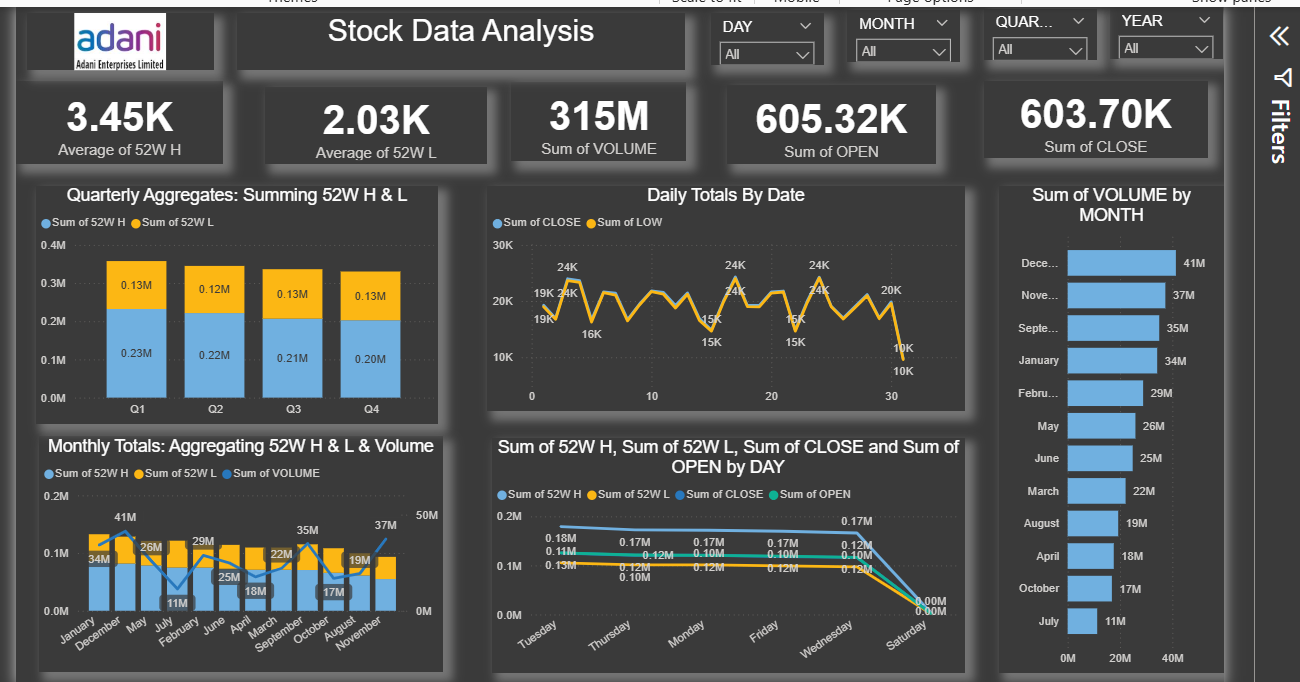

The page's visual inventory and layout, read from the dashboard file:
{"tool":"powerbi","page":{"name":"Page 1","canvas":[1280,720],"ordinal":0},"visuals":[{"type":"slicer","fields":{"Values":["Quote-Equity-ADANIENT-EQ-04-12-.DAY"]},"box":[737,5.7,120,54.8],"z":0},{"type":"slicer","fields":{"Values":["Quote-Equity-ADANIENT-EQ-04-12-.MONTH"]},"box":[880.6,3.8,120,54.8],"z":1000},{"type":"slicer","fields":{"Values":["Quote-Equity-ADANIENT-EQ-04-12-.QUARTER"]},"box":[1026.1,1.9,120,54.8],"z":2000},{"type":"slicer","fields":{"Values":["Quote-Equity-ADANIENT-EQ-04-12-.YEAR"]},"box":[1160.3,0,120,54.8],"z":3000},{"type":"card","fields":{"Values":["Avg(Quote-Equity-ADANIENT-EQ-04-12-.52W H)"]},"box":[0,77.5,219.2,88.8],"z":4000},{"type":"card","fields":{"Values":["Avg(Quote-Equity-ADANIENT-EQ-04-12-.52W L)"]},"box":[234.3,77.5,234.3,83.2],"z":5000},{"type":"card","fields":{"Values":["Sum(Quote-Equity-ADANIENT-EQ-04-12-.CLOSE)"]},"box":[1026.6,77.7,238,82.6],"z":6000},{"type":"card","fields":{"Values":["Sum(Quote-Equity-ADANIENT-EQ-04-12-.OPEN)"]},"box":[784.3,77.5,221.1,85],"z":7000},{"type":"card","fields":{"Values":["Sum(Quote-Equity-ADANIENT-EQ-04-12-.VOLUME)"]},"box":[524.6,79.3,186.2,84.2],"z":8000},{"type":"columnChart","title":"Quarterly Aggregates: Summing 52W H & L","fields":{"Y":["Sum(Quote-Equity-ADANIENT-EQ-04-12-.52W H)","Sum(Quote-Equity-ADANIENT-EQ-04-12-.52W L)"],"Category":["Quote-Equity-ADANIENT-EQ-04-12-.QUARTER"]},"box":[21,189.4,427.5,252.6],"z":9000},{"type":"lineStackedColumnComboChart","title":"Monthly Totals: Aggregating 52W H & L & Volume","fields":{"Y":["Sum(Quote-Equity-ADANIENT-EQ-04-12-.52W H)","Sum(Quote-Equity-ADANIENT-EQ-04-12-.52W L)"],"Category":["Quote-Equity-ADANIENT-EQ-04-12-.MONTH"],"Y2":["Sum(Quote-Equity-ADANIENT-EQ-04-12-.VOLUME)"]},"box":[24.3,455,429.1,251],"z":10000},{"type":"lineChart","title":"Daily Totals By  Date ","fields":{"Category":["Quote-Equity-ADANIENT-EQ-04-12-.DATE.Variation.Date Hierarchy.Day"],"Y":["Sum(Quote-Equity-ADANIENT-EQ-04-12-.CLOSE)","Sum(Quote-Equity-ADANIENT-EQ-04-12-.LOW)"]},"box":[498.7,189.4,506.8,239.6],"z":11000},{"type":"lineChart","fields":{"Y":["Sum(Quote-Equity-ADANIENT-EQ-04-12-.52W H)","Sum(Quote-Equity-ADANIENT-EQ-04-12-.52W L)","Sum(Quote-Equity-ADANIENT-EQ-04-12-.CLOSE)","Sum(Quote-Equity-ADANIENT-EQ-04-12-.OPEN)"],"Category":["Quote-Equity-ADANIENT-EQ-04-12-.DAY"]},"box":[503.6,456.6,502,249.4],"z":12000},{"type":"clusteredBarChart","fields":{"Category":["Quote-Equity-ADANIENT-EQ-04-12-.MONTH"],"Y":["Sum(Quote-Equity-ADANIENT-EQ-04-12-.VOLUME)"]},"box":[1041.2,189.4,239.6,516.5],"z":13000},{"type":"textbox","box":[234.3,5.7,476.2,60.5],"z":14000},{"type":"image","box":[11.3,5.7,198.4,60.5],"z":14001}]}

Visuals, with their boxes on the page's 1280x720 design canvas (x1, y1, x2, y2). These are canvas units, not pixel positions in the 1300x682 screenshot, which may show the page scaled, cropped or inside an application window:
slicer - Quote-Equity-ADANIENT-EQ-04-12-.DAY: <bbox>737, 6, 857, 60</bbox>
slicer - Quote-Equity-ADANIENT-EQ-04-12-.MONTH: <bbox>881, 4, 1001, 59</bbox>
slicer - Quote-Equity-ADANIENT-EQ-04-12-.QUARTER: <bbox>1026, 2, 1146, 57</bbox>
slicer - Quote-Equity-ADANIENT-EQ-04-12-.YEAR: <bbox>1160, 0, 1280, 55</bbox>
card - Avg(Quote-Equity-ADANIENT-EQ-04-12-.52W H): <bbox>0, 78, 219, 166</bbox>
card - Avg(Quote-Equity-ADANIENT-EQ-04-12-.52W L): <bbox>234, 78, 469, 161</bbox>
card - Sum(Quote-Equity-ADANIENT-EQ-04-12-.CLOSE): <bbox>1027, 78, 1265, 160</bbox>
card - Sum(Quote-Equity-ADANIENT-EQ-04-12-.OPEN): <bbox>784, 78, 1005, 162</bbox>
card - Sum(Quote-Equity-ADANIENT-EQ-04-12-.VOLUME): <bbox>525, 79, 711, 164</bbox>
"Quarterly Aggregates: Summing 52W H & L" columnChart: <bbox>21, 189, 448, 442</bbox>
"Monthly Totals: Aggregating 52W H & L & Volume" lineStackedColumnComboChart: <bbox>24, 455, 453, 706</bbox>
"Daily Totals By  Date " lineChart: <bbox>499, 189, 1006, 429</bbox>
lineChart - Sum(Quote-Equity-ADANIENT-EQ-04-12-.52W H) x Sum(Quote-Equity-ADANIENT-EQ-04-12-.52W L): <bbox>504, 457, 1006, 706</bbox>
clusteredBarChart - Quote-Equity-ADANIENT-EQ-04-12-.MONTH x Sum(Quote-Equity-ADANIENT-EQ-04-12-.VOLUME): <bbox>1041, 189, 1281, 706</bbox>
textbox: <bbox>234, 6, 710, 66</bbox>
image: <bbox>11, 6, 210, 66</bbox>
